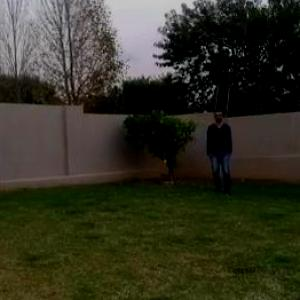follow: (210, 108, 231, 195)
